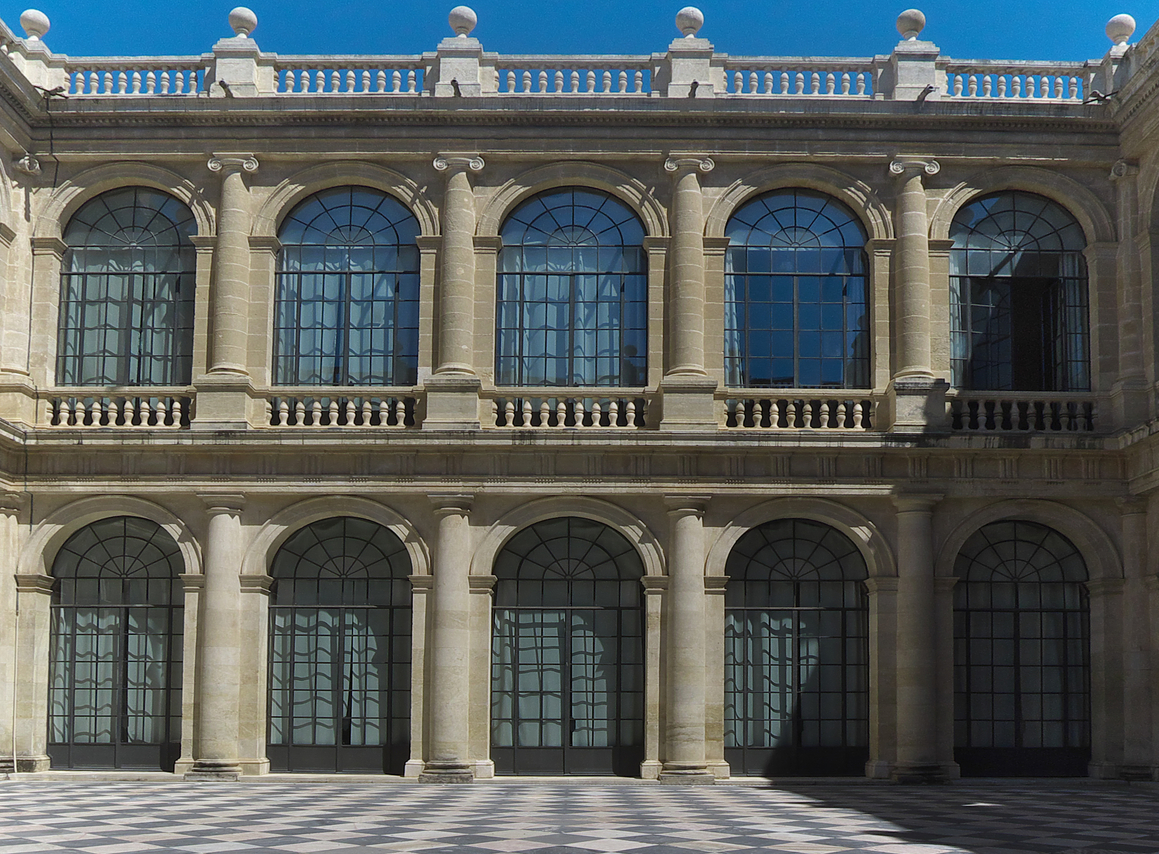arco-medio-punto: (463, 490, 671, 607), (230, 492, 439, 604), (7, 489, 210, 604), (244, 153, 451, 262), (696, 490, 899, 601), (700, 156, 895, 266), (469, 154, 674, 257), (25, 154, 221, 261), (925, 160, 1123, 263), (930, 497, 1126, 600)
